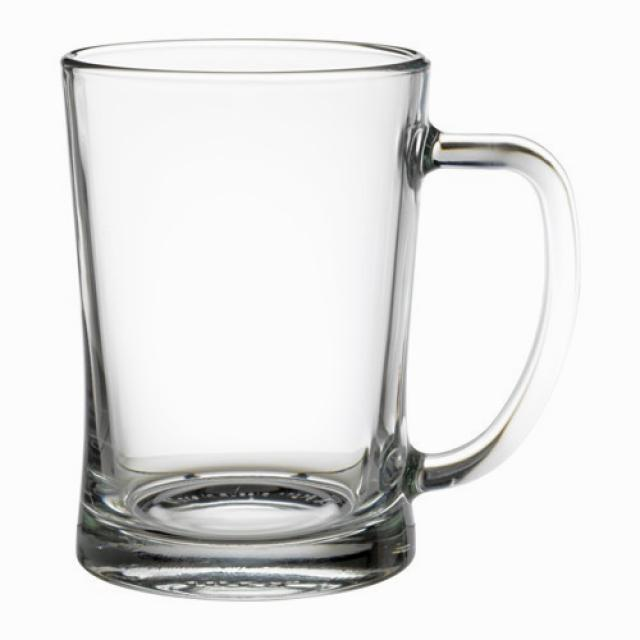Cangkir: (4, 19, 626, 638)
